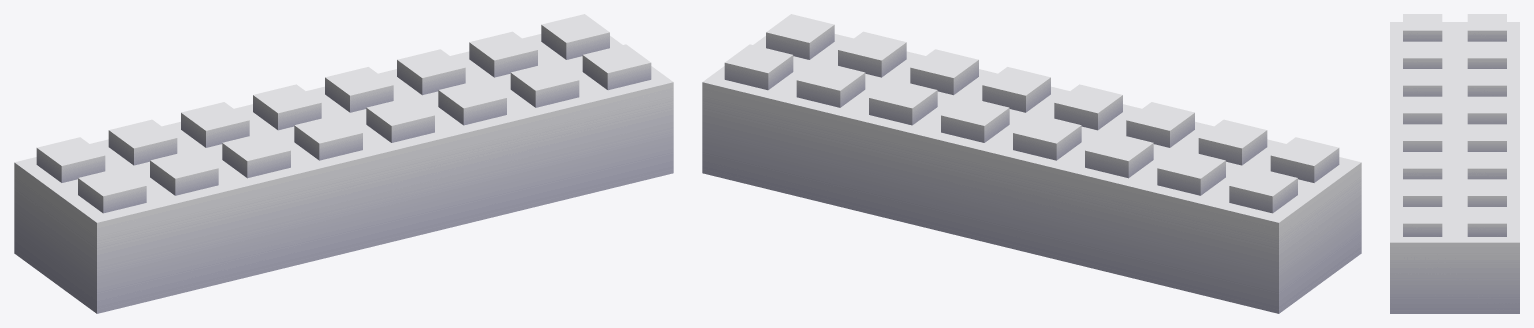
File: square_lq_brick_2x8.glb
3 views of the same model, side by side, from view 1: azimuth 30°, elevation 25°; view 2: azimuth 150°, elevation 25°; view 3: azimuth 270°, elevation 25° (orthographic). The views are drawn at different scales.
Visible parts, largest first — view 1: square-lq-brick-2x8; view 2: square-lq-brick-2x8; view 3: square-lq-brick-2x8.
Boxes of the visible parts, x1=… form: square-lq-brick-2x8: x1=14, y1=14, x2=673, y2=313; square-lq-brick-2x8: x1=702, y1=14, x2=1361, y2=313; square-lq-brick-2x8: x1=1390, y1=14, x2=1519, y2=313.
Size of the model in its own units: 0.636 by 0.114 by 0.158.
Materials: 1 (1 with a texture image).
